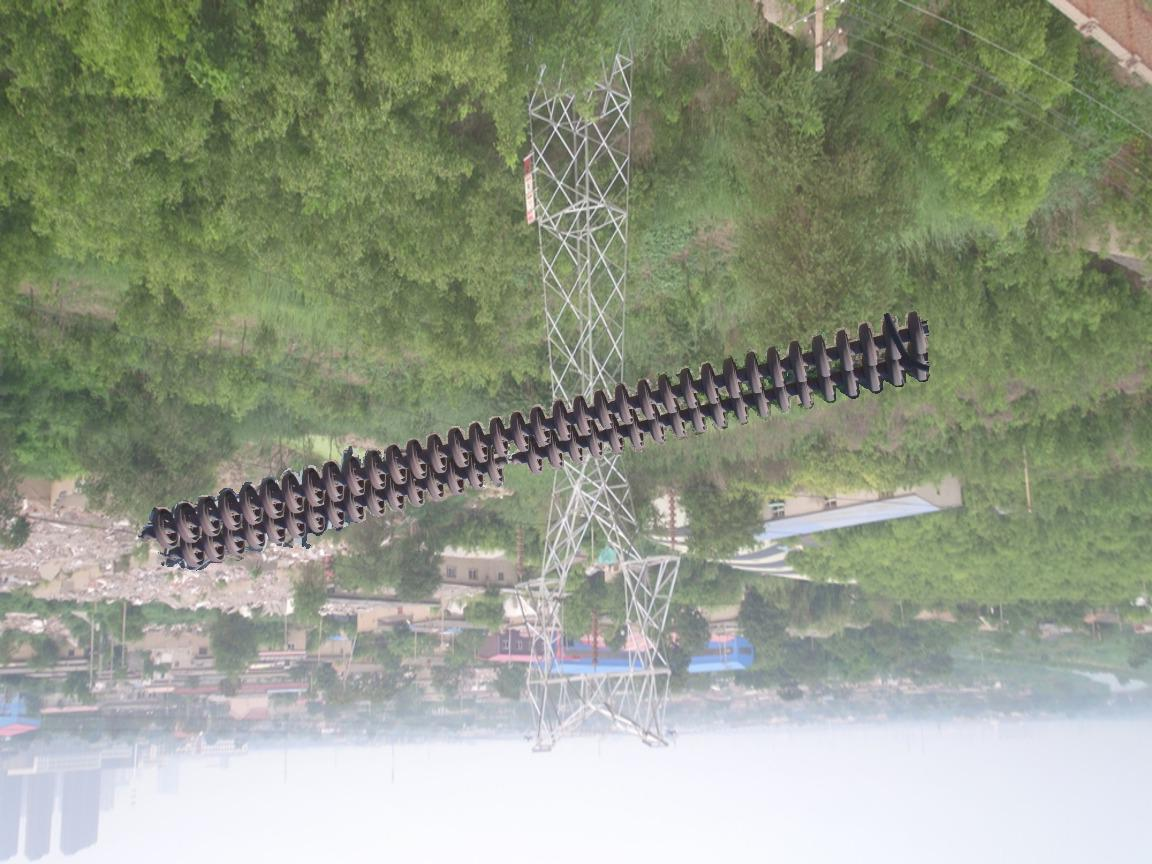insulator: (144, 306, 933, 576)
insulator_stringdrop: (485, 437, 545, 488)
